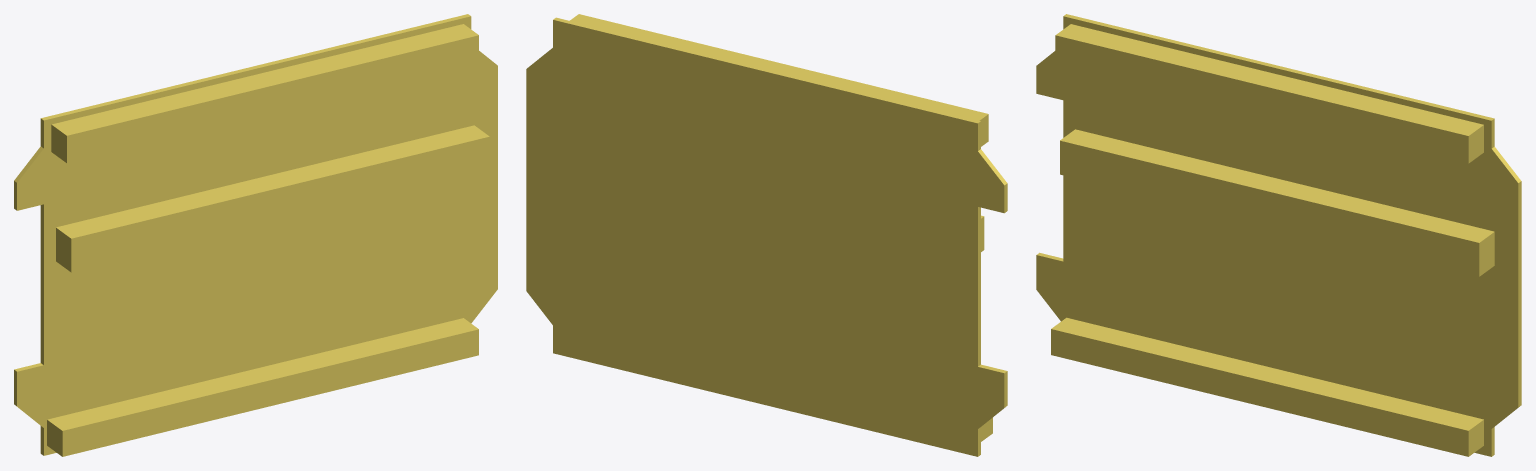
The model's file is expansion_board.dae.
3 renders of one model, left to right at view 1: azimuth 30°, elevation 25°; view 2: azimuth 150°, elevation 25°; view 3: azimuth 330°, elevation 25°, orthographic.
Visible parts, largest first — view 1: node0; view 2: node0; view 3: node0.
Boxes of the visible parts, x1,y1,x2,y2 form: node0: (14,14,497,456); node0: (526,14,1007,456); node0: (1036,14,1521,456).
Size of the model in its own units: 90 by 6 by 60.
